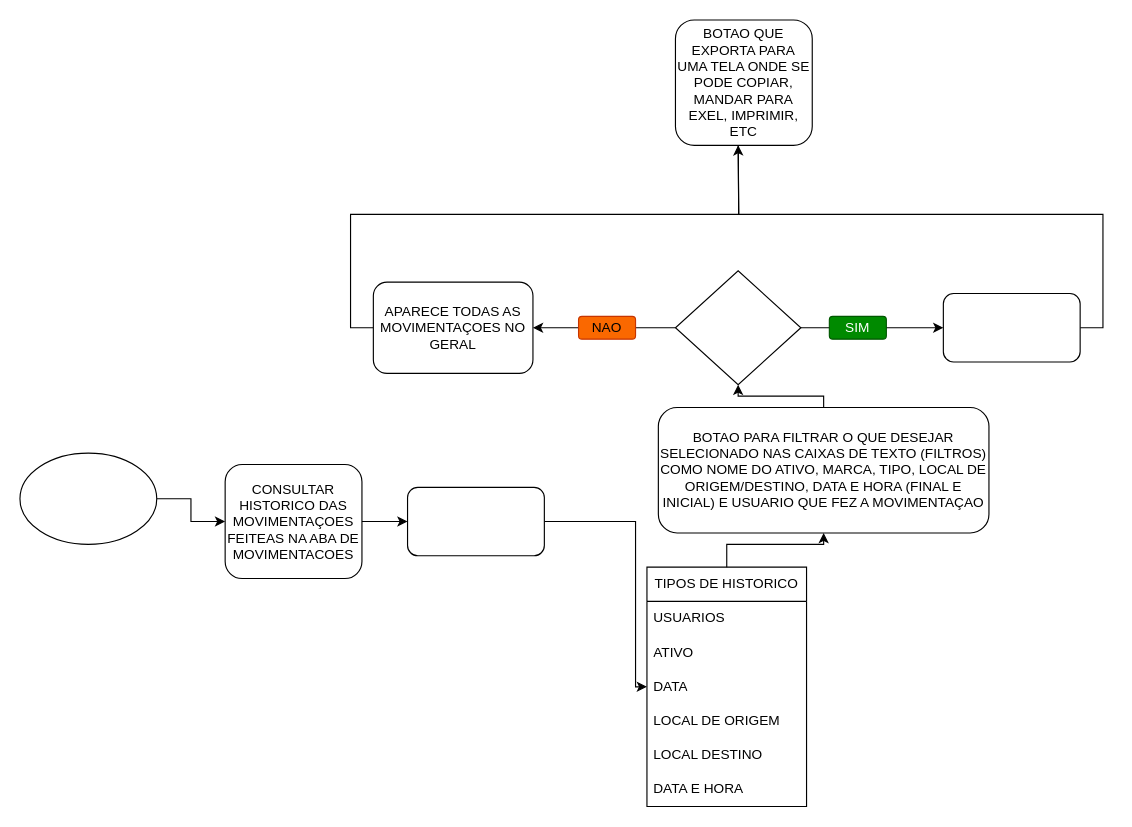
The diagram is 1132 pixels wide and 827 high, and some of its shapes have lost their labels. The shapes that lost their labels are listed below. From the top down, each one's centre as x and y in pixels, then its label:
At [737,327]: "FILTRO DE INFO".
At [1011,327]: "EXIBIR OS DADOS SELECIONADOS".
At [88,498]: "INICIO".
At [475,521]: "LISTA DE MOVIMENTAÇAO".
